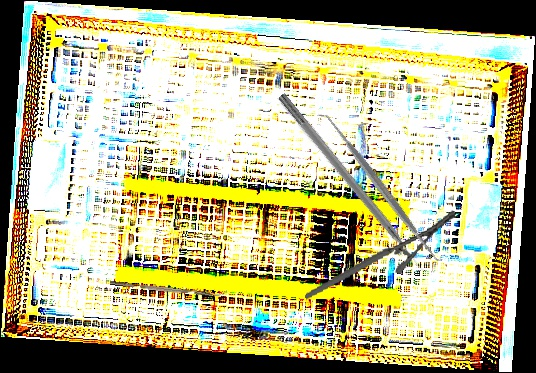Chopper: (109, 275, 228, 300)
Needle Holder: (294, 209, 466, 300)
Pusher: (275, 92, 428, 277)
Spatula Surgical: (314, 104, 447, 270)
